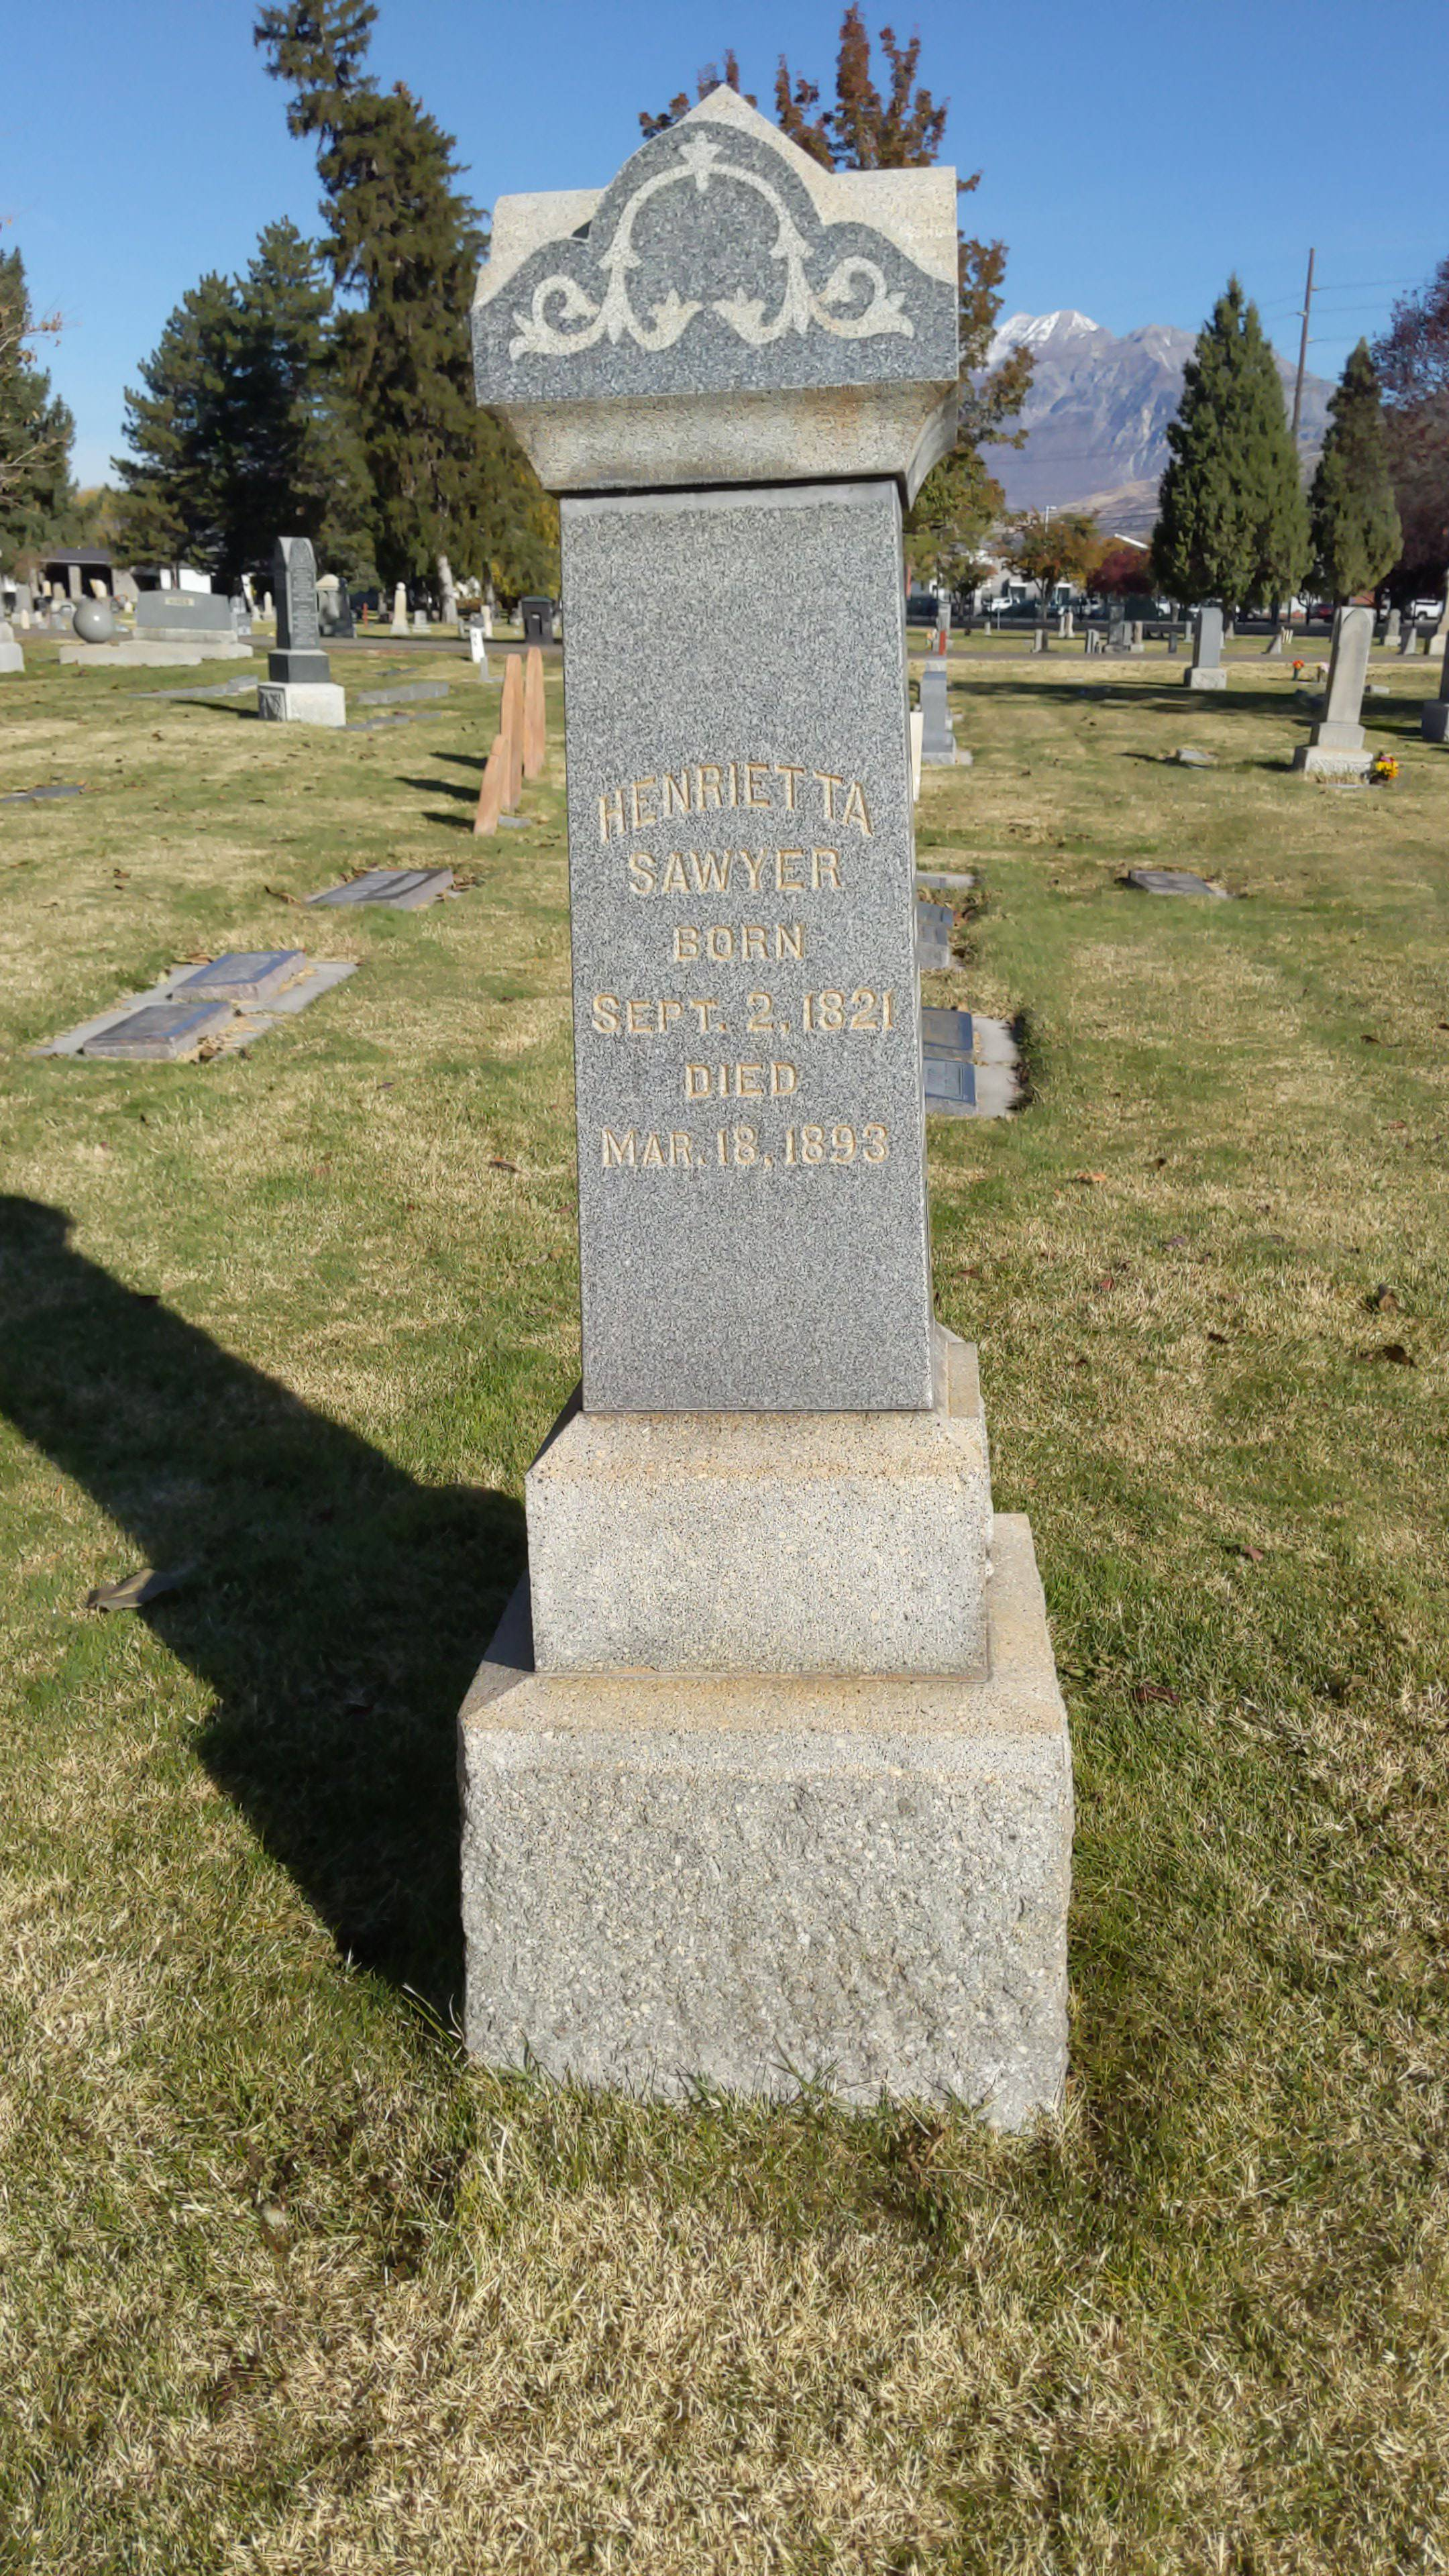obelisk: (469, 103, 993, 1679)
